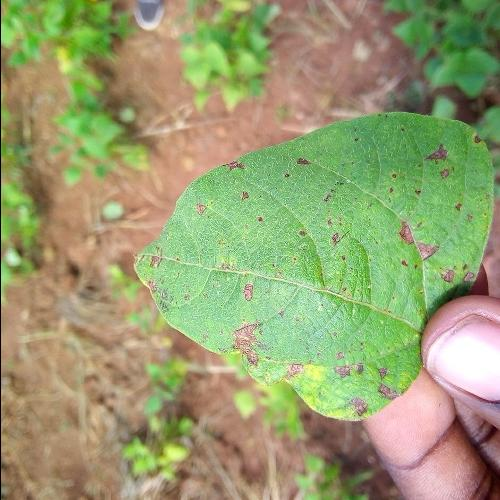hawar: (172, 281, 403, 418), (261, 126, 487, 264)
